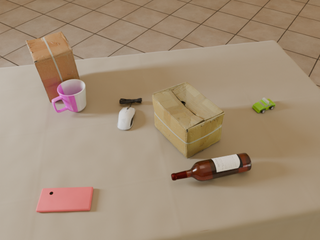bottle: (171, 153, 251, 181)
box: (152, 82, 225, 159), (26, 31, 80, 102)
cup: (52, 79, 86, 113)
mouse: (118, 107, 135, 130)
phone: (36, 187, 93, 212)
toy_car: (252, 98, 275, 113)
